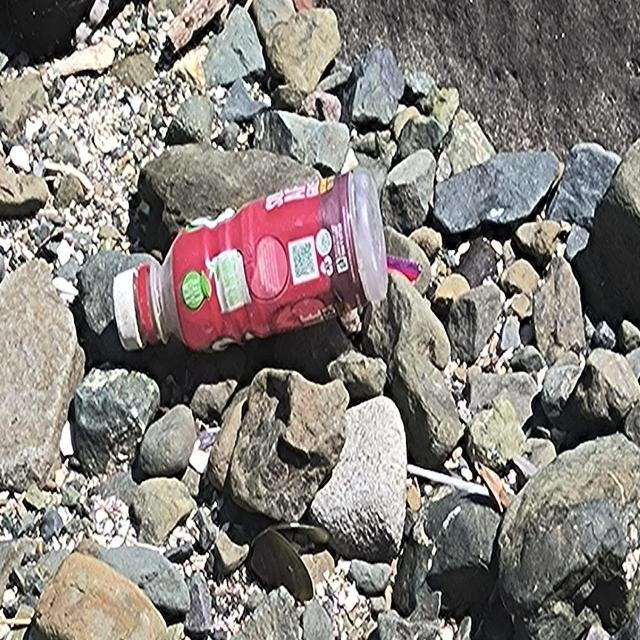plastic_waste: (113, 166, 391, 356)
